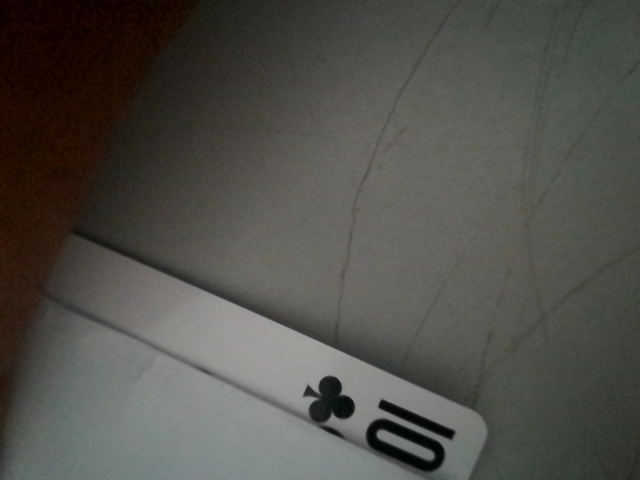mh 10: (282, 360, 477, 476)
